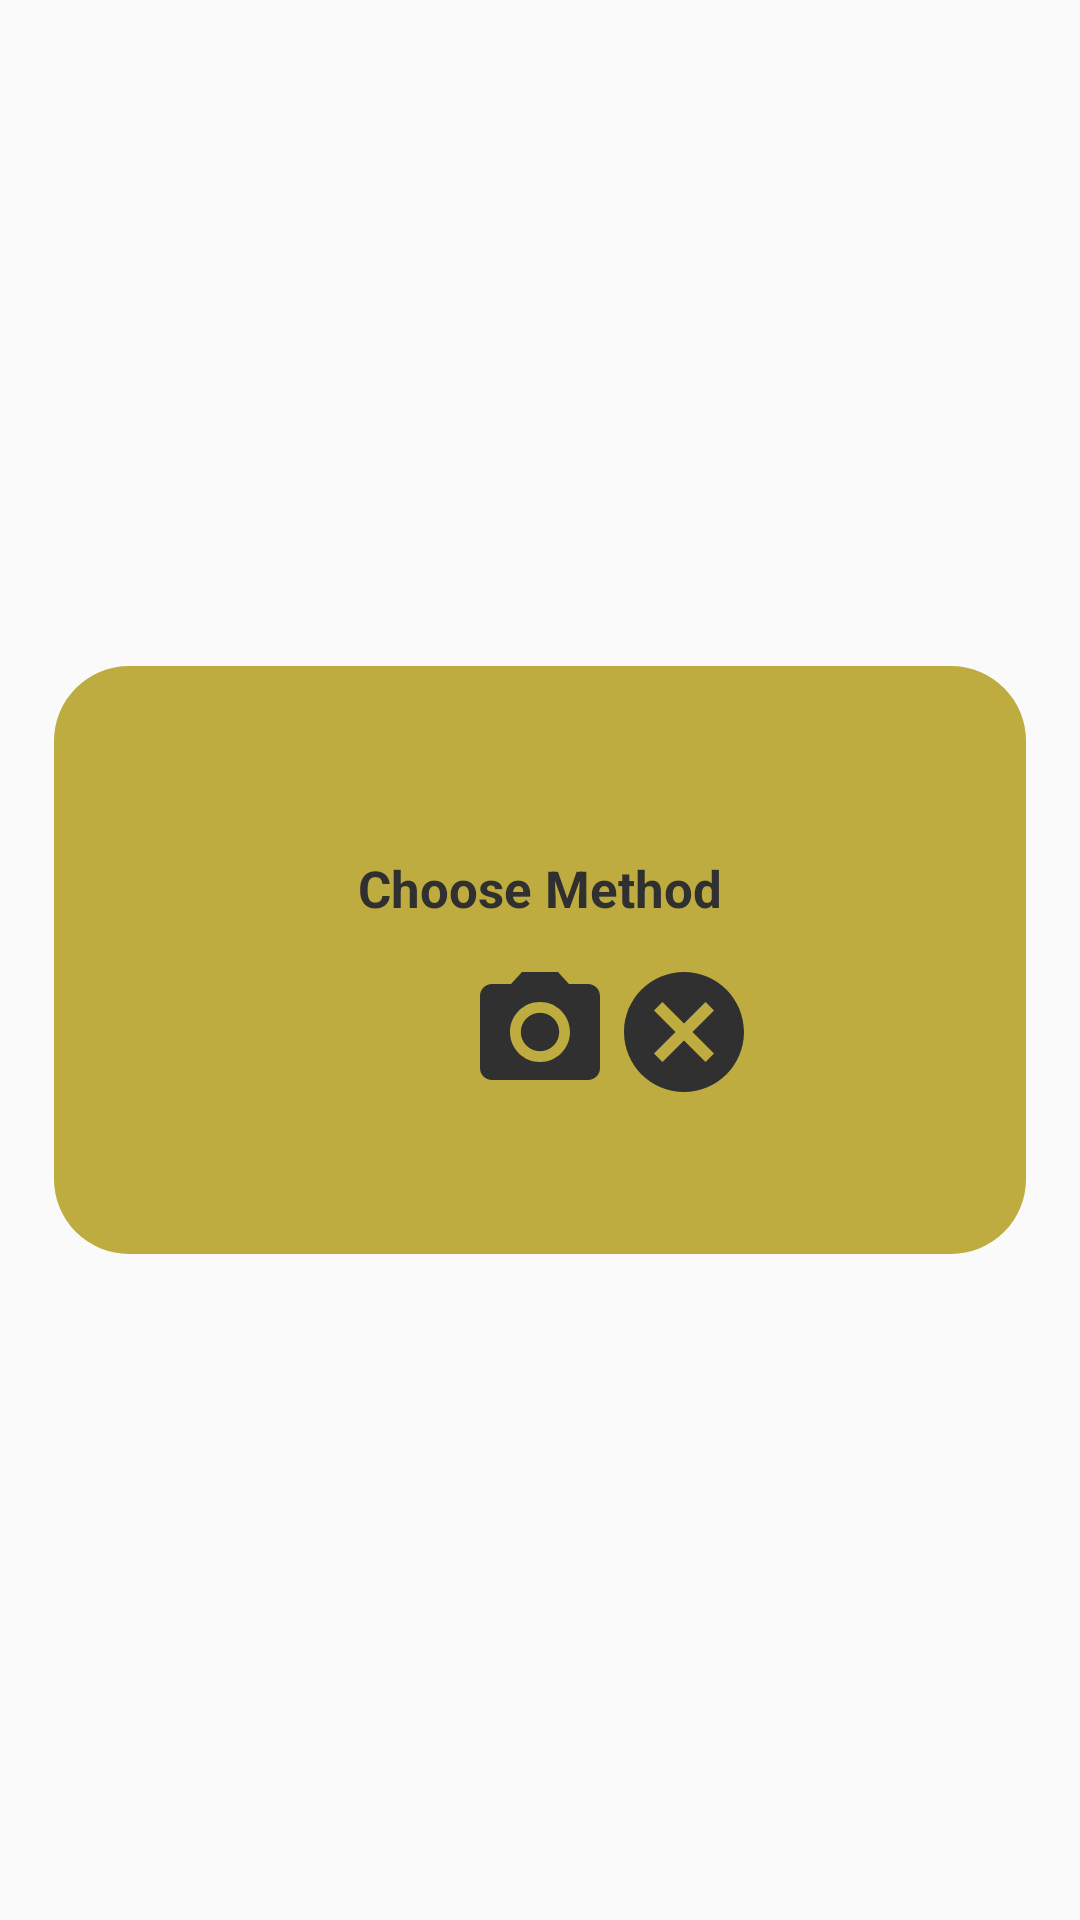

Named icons in this screenshot (1080x1920) and their bounding boxes, detection(x1, y1, x2, y2):
Cancel: detection(624, 972, 744, 1092)
photo: detection(480, 972, 600, 1080)
